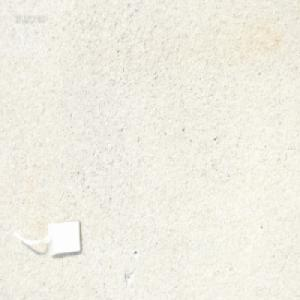LuggageTag: (11, 217, 83, 260)
